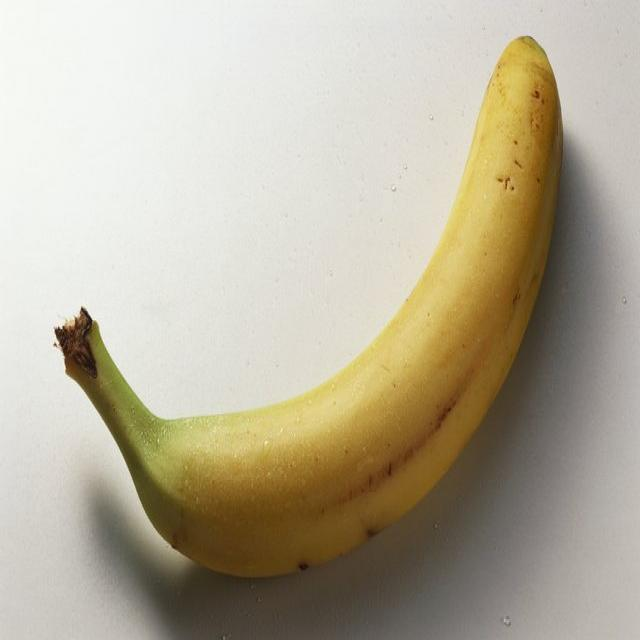Banana: (63, 30, 564, 585)
